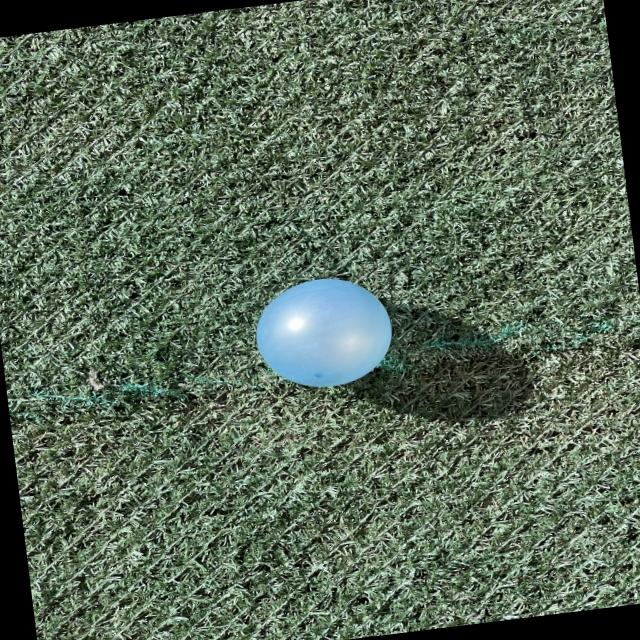balloon: (256, 279, 391, 386)
